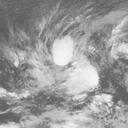cyclone: (50, 35, 75, 67)
